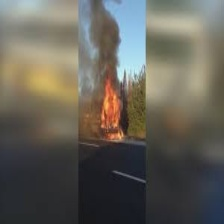fire: (96, 86, 127, 140)
smoke: (79, 1, 126, 84)
